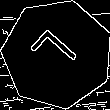L_SE: (28, 26, 86, 83)
